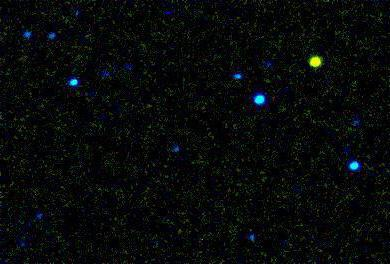star: (299, 46, 329, 76)
